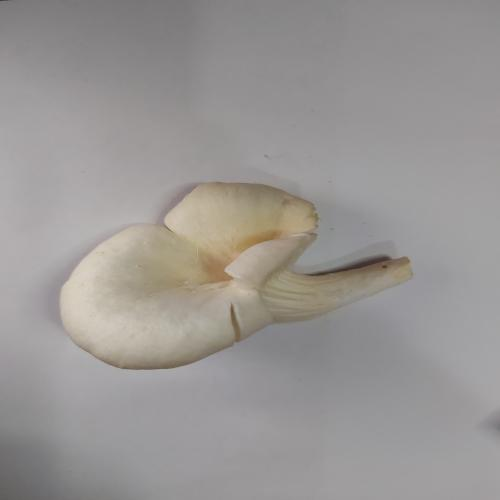Oyster Mushroom: (58, 180, 414, 371)
